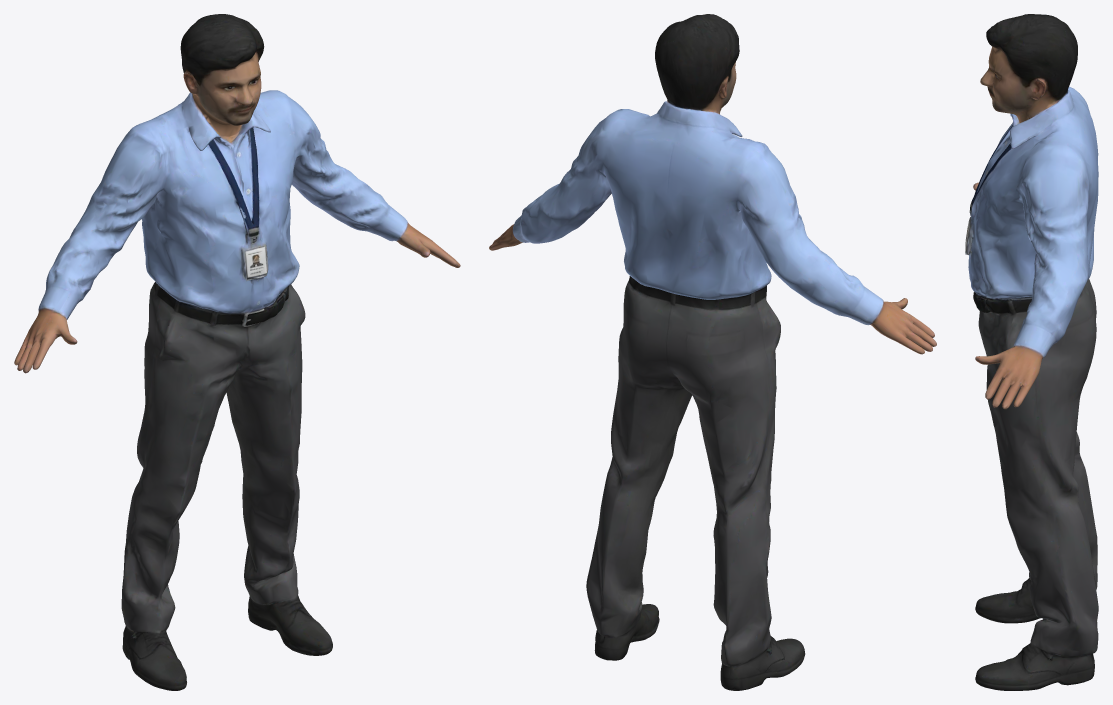
Rendered from npc-officeman.glb.
3 renders of one model, left to right at view 1: azimuth 30°, elevation 25°; view 2: azimuth 150°, elevation 25°; view 3: azimuth 270°, elevation 25°, orthographic.
Parts seen in each view (by area): view 1: SK_NPC_OfficeMan; view 2: SK_NPC_OfficeMan; view 3: SK_NPC_OfficeMan.
Part boxes in pixels (<box>): SK_NPC_OfficeMan: <box>14,14,460,690</box>; SK_NPC_OfficeMan: <box>489,14,936,690</box>; SK_NPC_OfficeMan: <box>965,14,1098,690</box>.
Bounding box in the file's own units: 135 × 188 × 35.85.
Materials: 1 (1 with a texture image).
